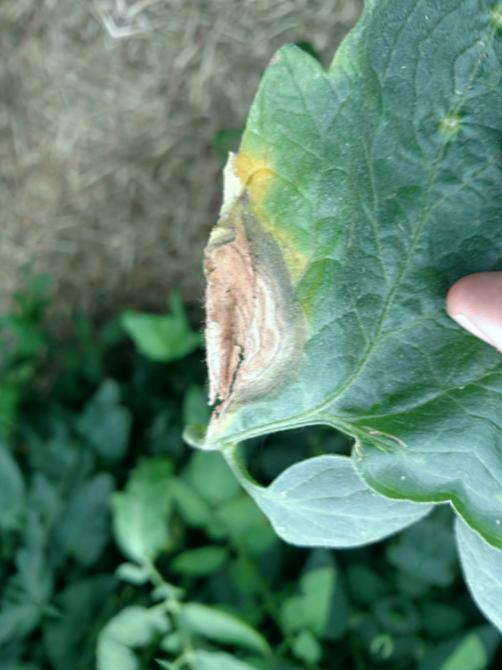Tomato mold leaf: (79, 0, 502, 601)
